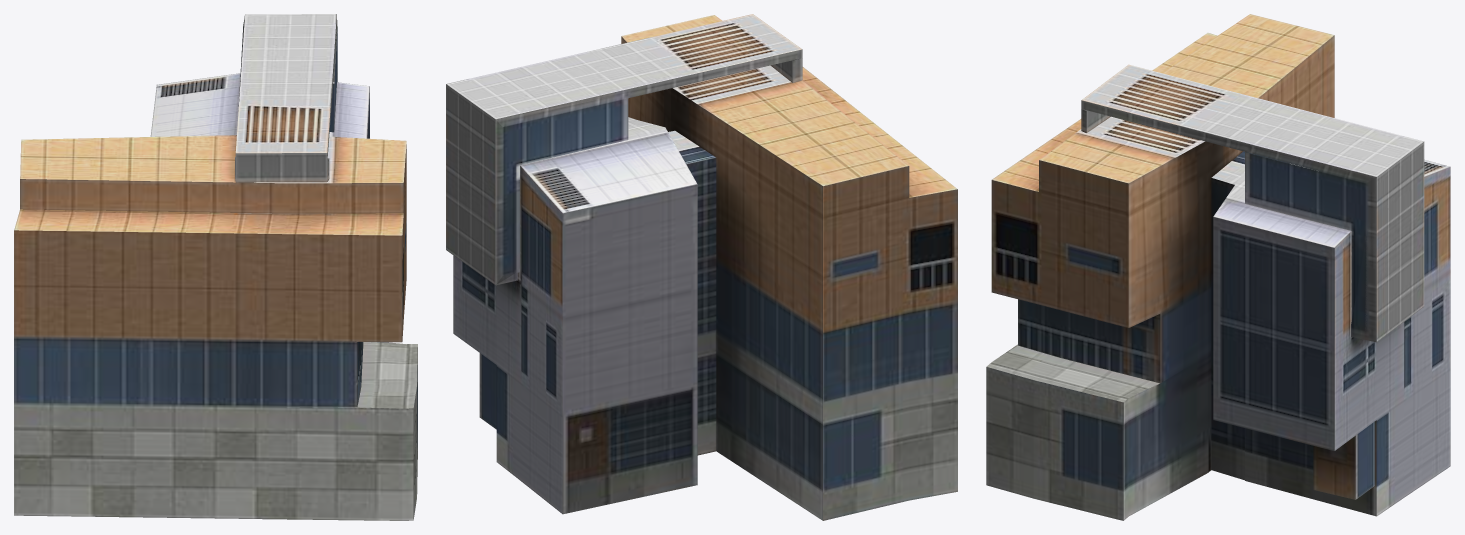
3 views of the same model, side by side, from view 1: azimuth 30°, elevation 25°; view 2: azimuth 150°, elevation 25°; view 3: azimuth 270°, elevation 25° (orthographic). The views are drawn at different scales.
Parts seen in each view (by area): view 1: MainBuilding; view 2: MainBuilding; view 3: MainBuilding.
Part boxes in pixels (x1,y1,x2,y2): MainBuilding: (14,14,417,520); MainBuilding: (446,14,957,520); MainBuilding: (986,14,1450,520).
Bounding box in the file's own units: 1.5 × 1.19 × 1.38.
Materials: 1 (1 with a texture image).
